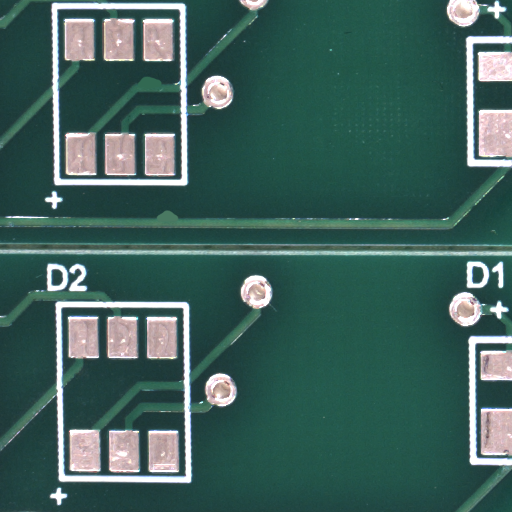Spur: (151, 80, 180, 93), (164, 214, 191, 225)
